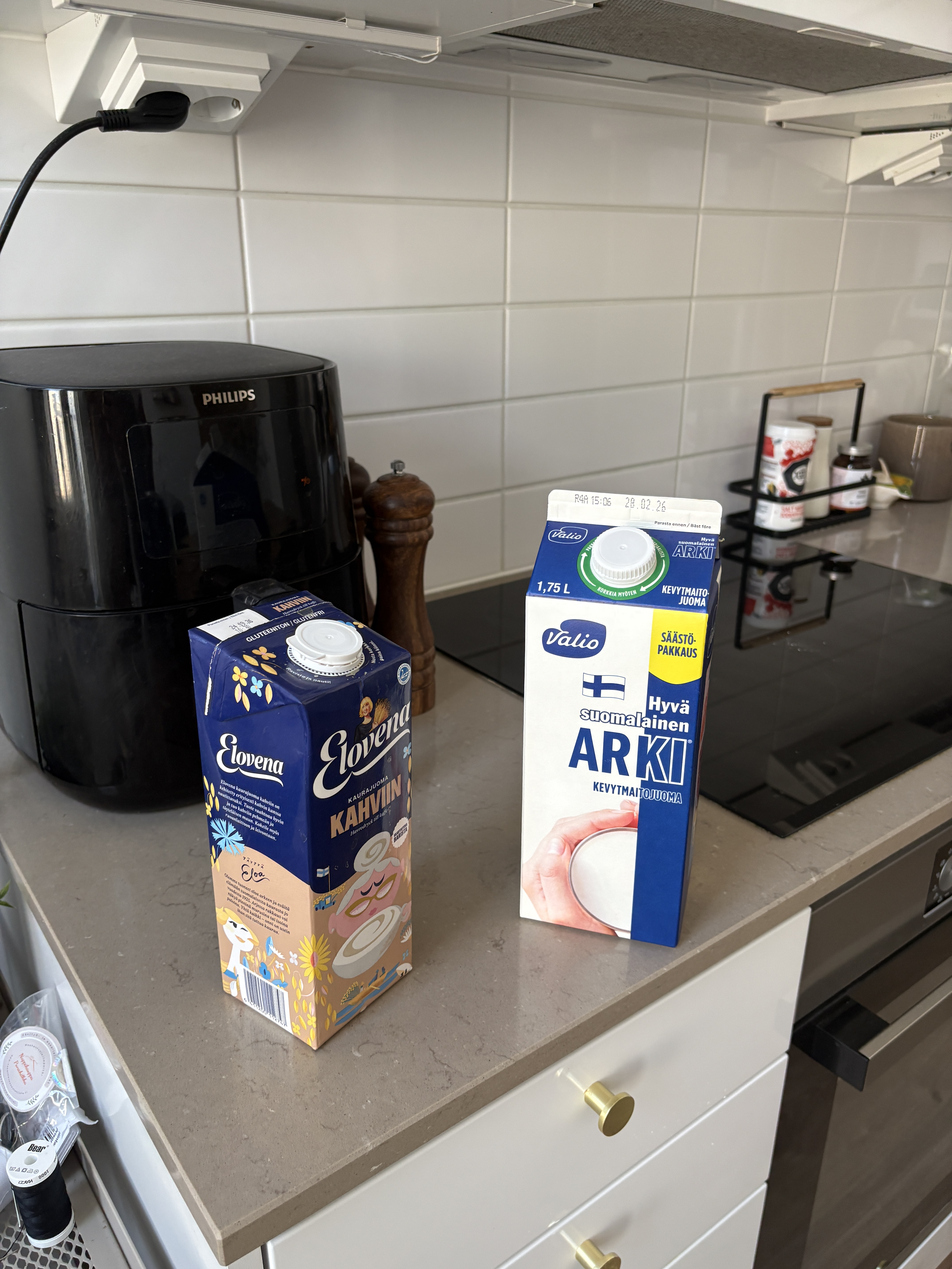Dryckeskartong: (136, 572, 463, 1079), (507, 439, 757, 979)
